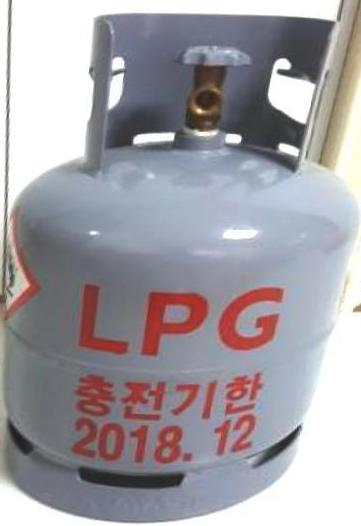cylinder: (0, 1, 361, 526)
